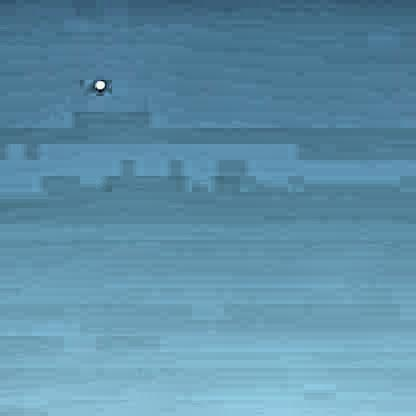golfball: (92, 75, 106, 89)
